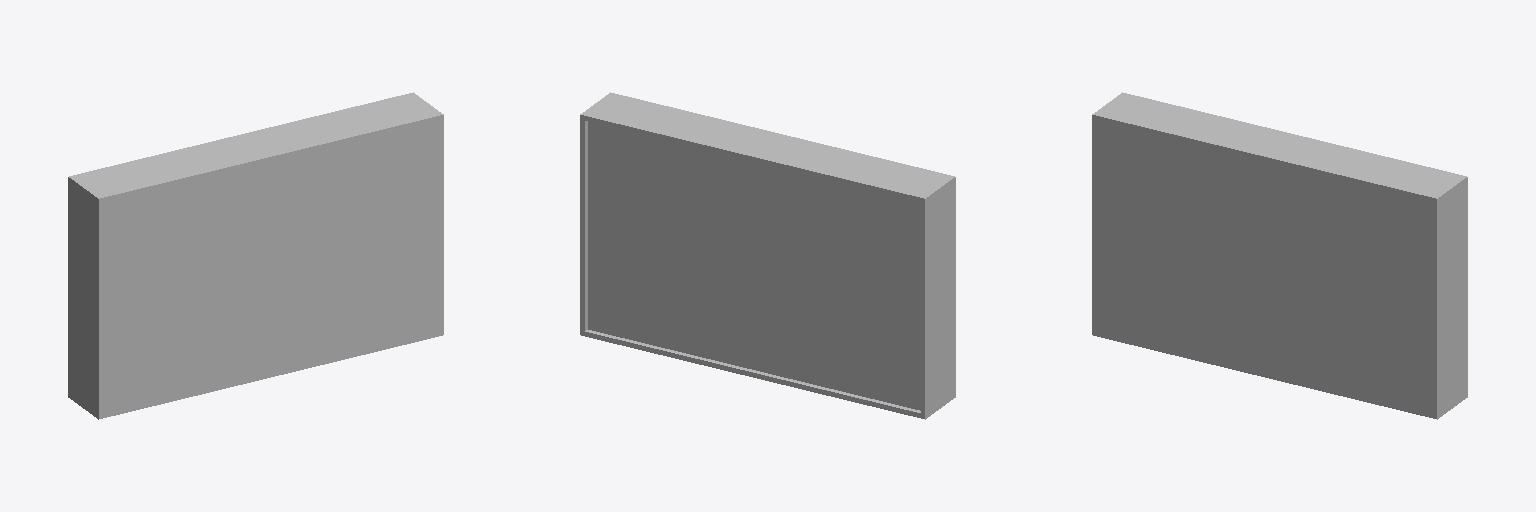
Rendered from Desk Screen.obj.
The picture shows the model from 3 angles: view 1: azimuth 30°, elevation 25°; view 2: azimuth 150°, elevation 25°; view 3: azimuth 330°, elevation 25°; orthographic projection.
Visible parts, largest first — view 1: ObjObject.001; view 2: ObjObject.001; view 3: ObjObject.001.
Boxes of the visible parts, <box> form: ObjObject.001: <box>68,92,443,419</box>; ObjObject.001: <box>580,92,955,419</box>; ObjObject.001: <box>1092,92,1467,419</box>.
Size of the model in its own units: 7.2 by 4.4 by 1.1.